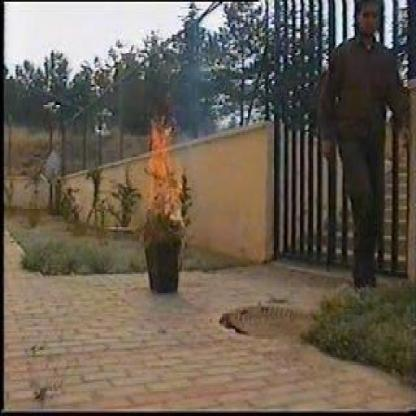foggia-v2-map80-epoch100 - v1 4323: (145, 124, 173, 204)
